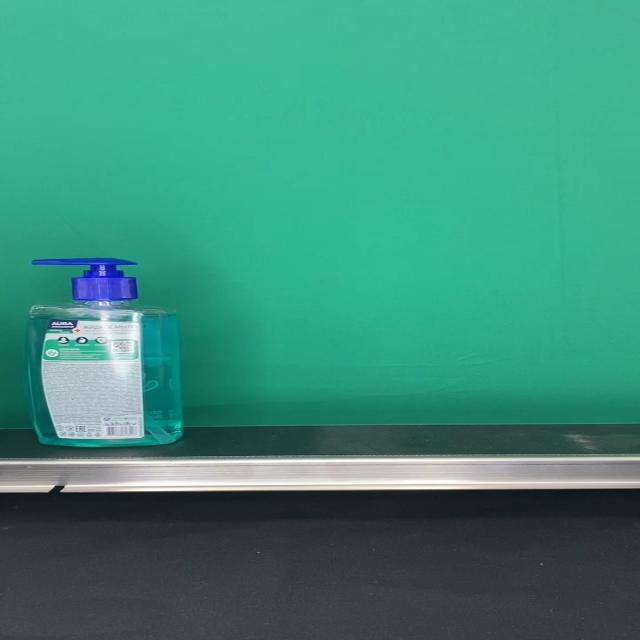Bottle: (24, 257, 184, 447)
Cap: (32, 258, 136, 300)
